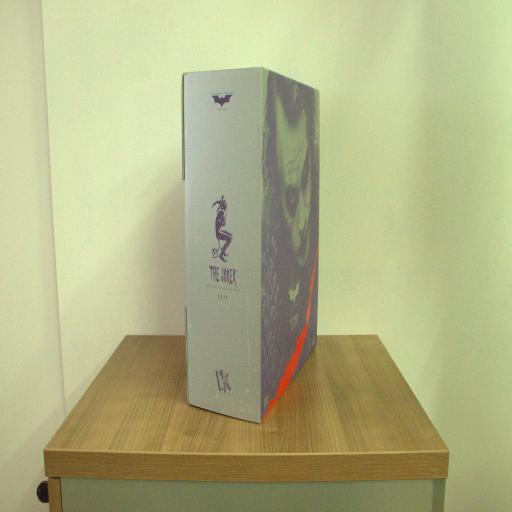Joker: (182, 66, 322, 422)
